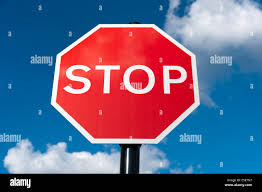SS: (56, 20, 197, 148)
